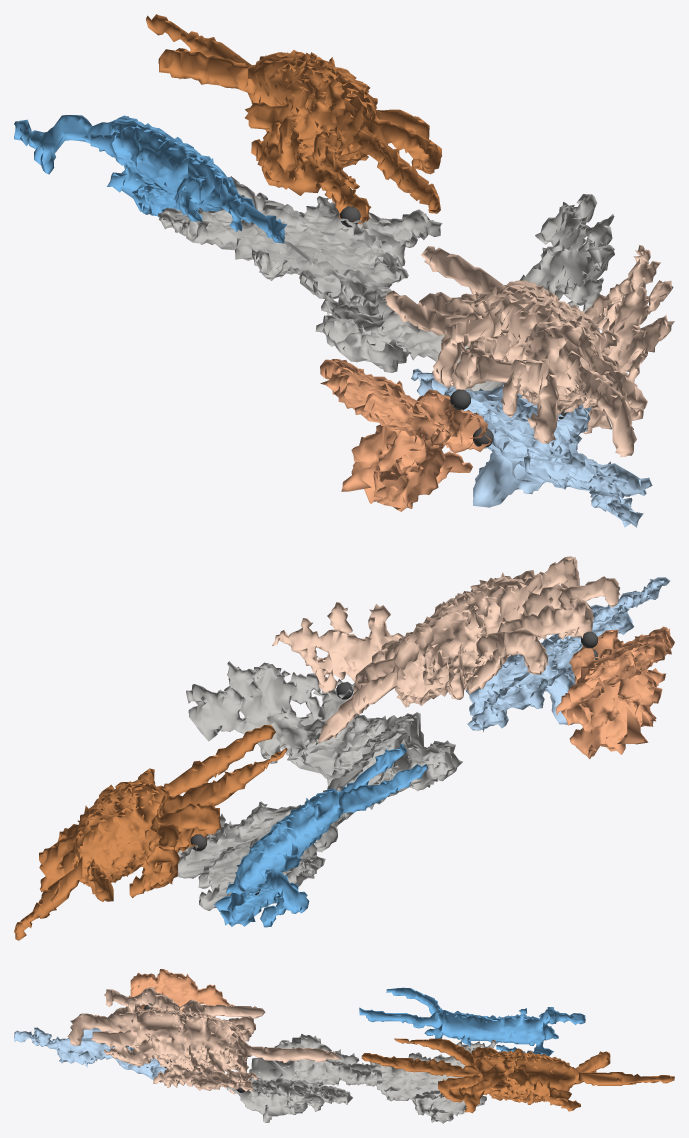
File: sample_1_1_group_2.glb
The picture shows the model from 3 angles, top to bottom: view 1: azimuth 30°, elevation 25°; view 2: azimuth 150°, elevation 25°; view 3: azimuth 270°, elevation 25°; orthographic projection. The views are drawn at different scales.
Visible parts, largest first — view 1: osteocyte_37_round, osteocyte_3_untyped, osteocyte_27_round, osteocyte_228_round, osteocyte_29_elongated, osteocyte_19_elongated; view 2: osteocyte_37_round, osteocyte_3_untyped, osteocyte_27_round, osteocyte_29_elongated, osteocyte_228_round, osteocyte_19_elongated; view 3: osteocyte_37_round, osteocyte_3_untyped, osteocyte_27_round, osteocyte_29_elongated, osteocyte_19_elongated, osteocyte_228_round.
Part boxes in pixels (x1,y1,x2,y2): osteocyte_37_round: [385, 245, 674, 456]; osteocyte_3_untyped: [158, 176, 614, 391]; osteocyte_27_round: [146, 14, 441, 224]; osteocyte_228_round: [320, 359, 491, 511]; osteocyte_29_elongated: [14, 115, 286, 243]; osteocyte_19_elongated: [411, 368, 652, 527]; osteocyte_37_round: [272, 556, 620, 743]; osteocyte_3_untyped: [177, 661, 462, 910]; osteocyte_27_round: [14, 725, 287, 940]; osteocyte_29_elongated: [214, 743, 428, 927]; osteocyte_228_round: [556, 626, 674, 758]; osteocyte_19_elongated: [465, 577, 670, 731]; osteocyte_37_round: [67, 987, 341, 1094]; osteocyte_3_untyped: [226, 1034, 496, 1123]; osteocyte_27_round: [361, 1038, 674, 1113]; osteocyte_29_elongated: [359, 987, 585, 1055]; osteocyte_19_elongated: [14, 1027, 166, 1079]; osteocyte_228_round: [126, 969, 233, 1011].
Bounding box in the file's own units: 53.83 × 19.84 × 142.
